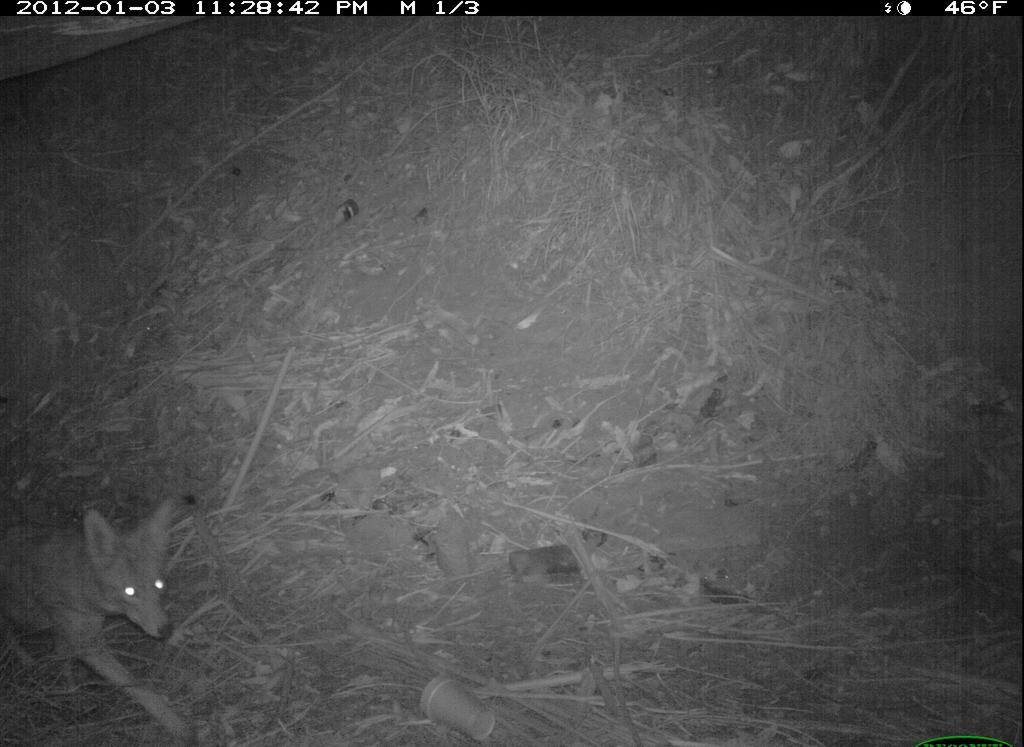coyote: (1, 487, 210, 747)
